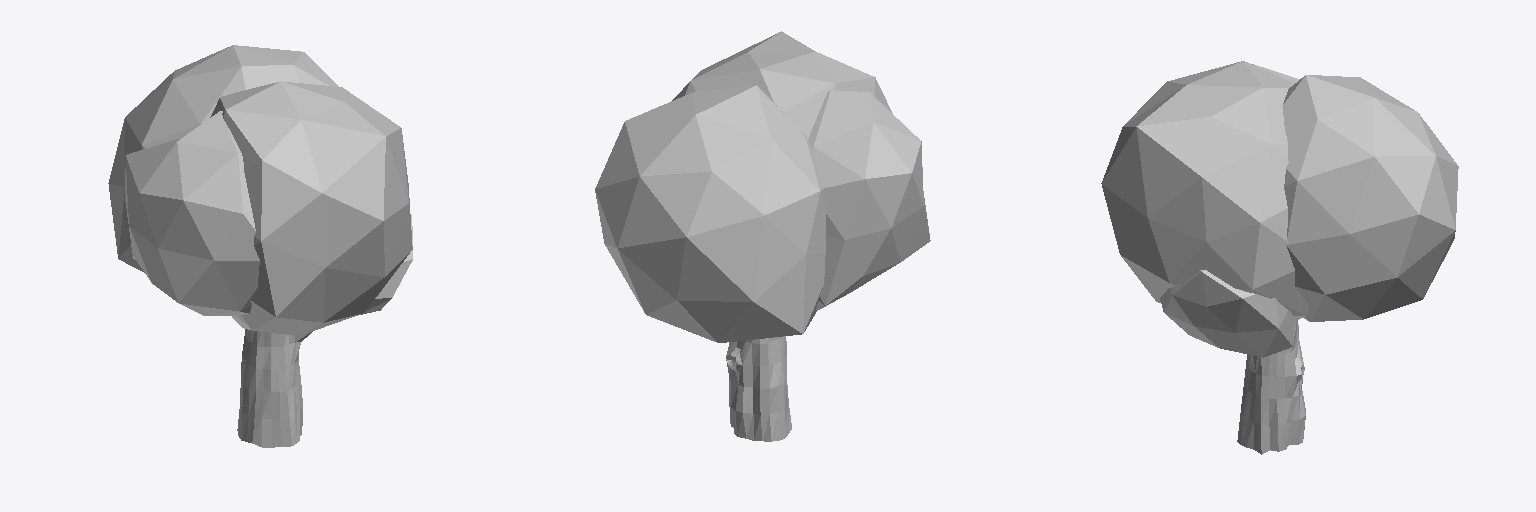
The model's file is tree.obj.
3 views of the same model, side by side, from view 1: azimuth 30°, elevation 25°; view 2: azimuth 150°, elevation 25°; view 3: azimuth 270°, elevation 25° (orthographic).
Visible parts, largest first — view 1: Icosphere, Cylinder; view 2: Icosphere, Cylinder; view 3: Icosphere, Cylinder.
Boxes of the visible parts, <box> form: Icosphere: <box>108,45,412,335</box>; Cylinder: <box>237,329,312,447</box>; Icosphere: <box>595,31,930,342</box>; Cylinder: <box>726,336,791,441</box>; Icosphere: <box>1101,61,1458,357</box>; Cylinder: <box>1237,320,1305,454</box>.
Size of the model in its own units: 1.38 by 1.83 by 1.64.